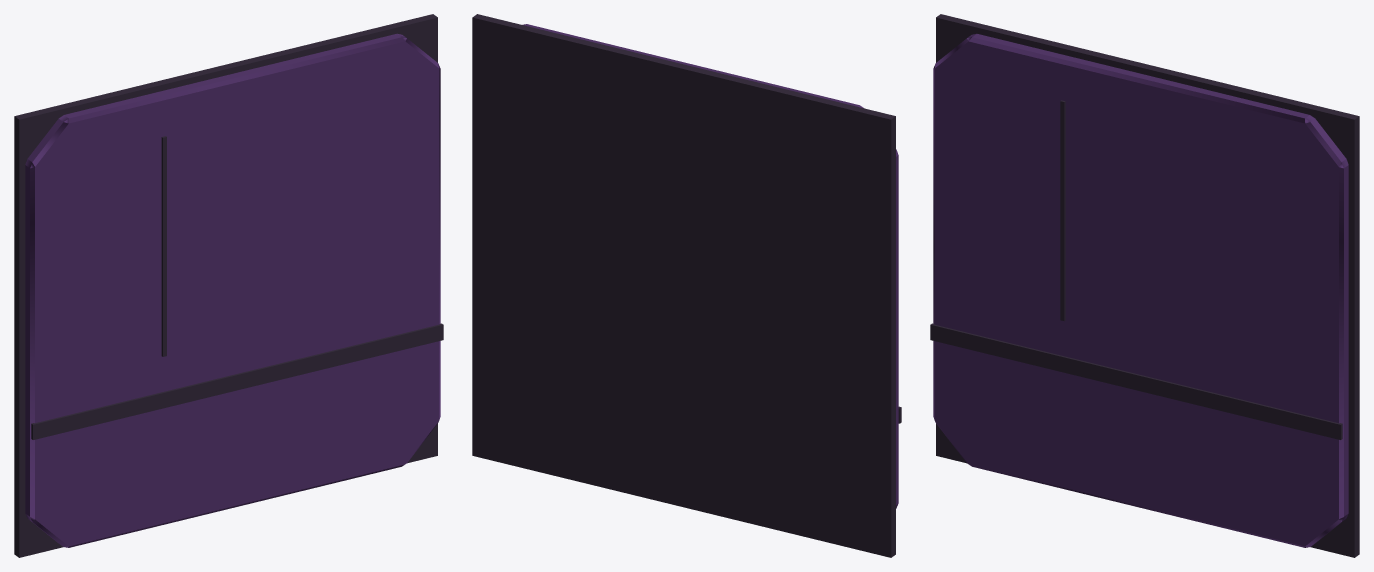
Rendered from SM_SB_Kit_AlienPanelD.fbx.
3 views of the same model, side by side, from view 1: azimuth 30°, elevation 25°; view 2: azimuth 150°, elevation 25°; view 3: azimuth 330°, elevation 25° (orthographic).
Visible parts, largest first — view 1: SM_SB_Kit_AlienPanelD; view 2: SM_SB_Kit_AlienPanelD; view 3: SM_SB_Kit_AlienPanelD.
Part boxes in pixels (<box>): SM_SB_Kit_AlienPanelD: <box>14,14,443,557</box>; SM_SB_Kit_AlienPanelD: <box>472,14,901,557</box>; SM_SB_Kit_AlienPanelD: <box>930,14,1359,557</box>.
Bounding box in the file's own units: 400 × 24 × 400.
